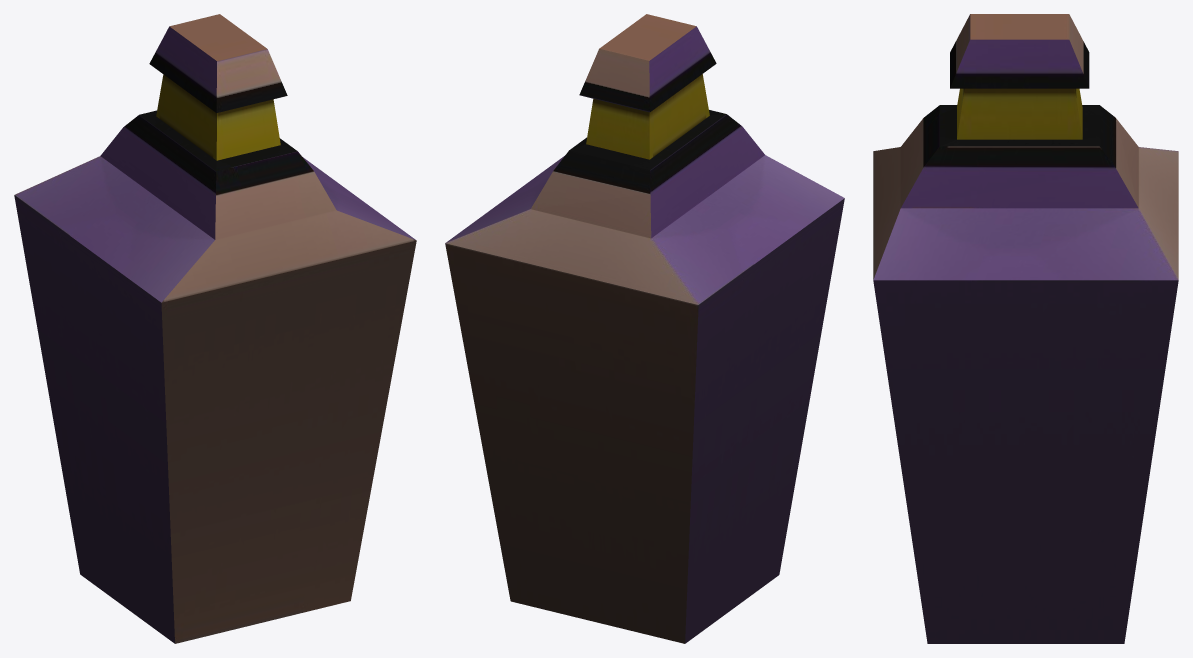
File: zapper5.dae
3 renders of one model, left to right at view 1: azimuth 30°, elevation 25°; view 2: azimuth 150°, elevation 25°; view 3: azimuth 270°, elevation 25°, orthographic. The views are drawn at different scales.
Parts seen in each view (by area): view 1: zapper; view 2: zapper; view 3: zapper.
Part boxes in pixels (x1,y1,x2,y2): zapper: (14,14,416,643); zapper: (445,14,844,643); zapper: (873,14,1178,643).
Bounding box in the file's own units: 2 × 2 × 4.13.
1 material, 1 textured.
